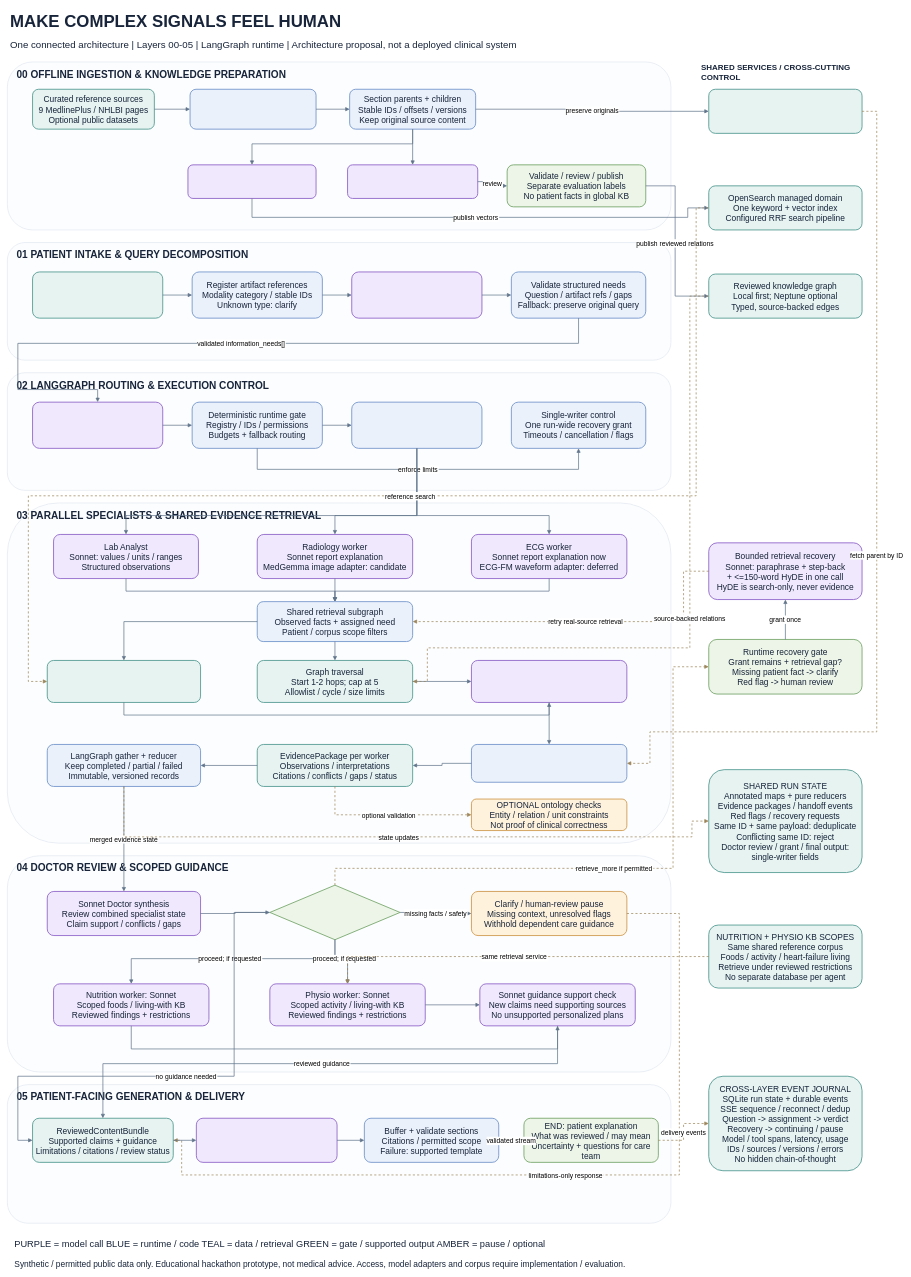
This 911x1277 diagram has some shape labels left out. The centre of each missing label's shape, as x and y in pixels:
Cohere Rerank 3.5 Merged real-source candidates Relevance is not confidence: pixel 549 681
Evidence / safety gate: pixel 334 912
Expand parent context Preserve qualifiers / provenance Validate citation IDs: pixel 549 763
Keyword + vector retrieval RRF candidate fusion Child / multi-representation IDs: pixel 124 681
LangGraph conditional edges Fan out relevant tasks Batch needs by worker role: pixel 416 425
Parse / clean / provenance Native HTML, JSON, tables Textract only for scans: pixel 252 109
S3 object store Originals + parent documents Run-scoped patient artifacts: pixel 785 111
Sonnet 4.6 Direct question or decomposition At most five information needs: pixel 416 294
Sonnet entity / relation proposals + source citations: pixel 412 181
Sonnet final generation Plain-language explanation No new clinical conclusions: pixel 266 1140
Sonnet routing proposal Needs -> registered workers Dependencies + task IDs: pixel 97 425
START: patient request Text and/or PNG / JPEG Synthetic / permitted public only: pixel 97 294
Titan Text Embeddings V2 Embed child text: pixel 251 181
